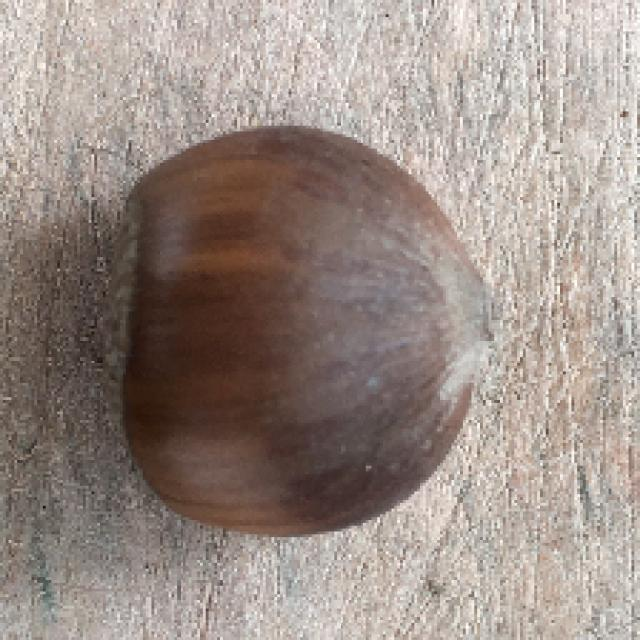damagedHazelnut: (88, 124, 509, 536)
